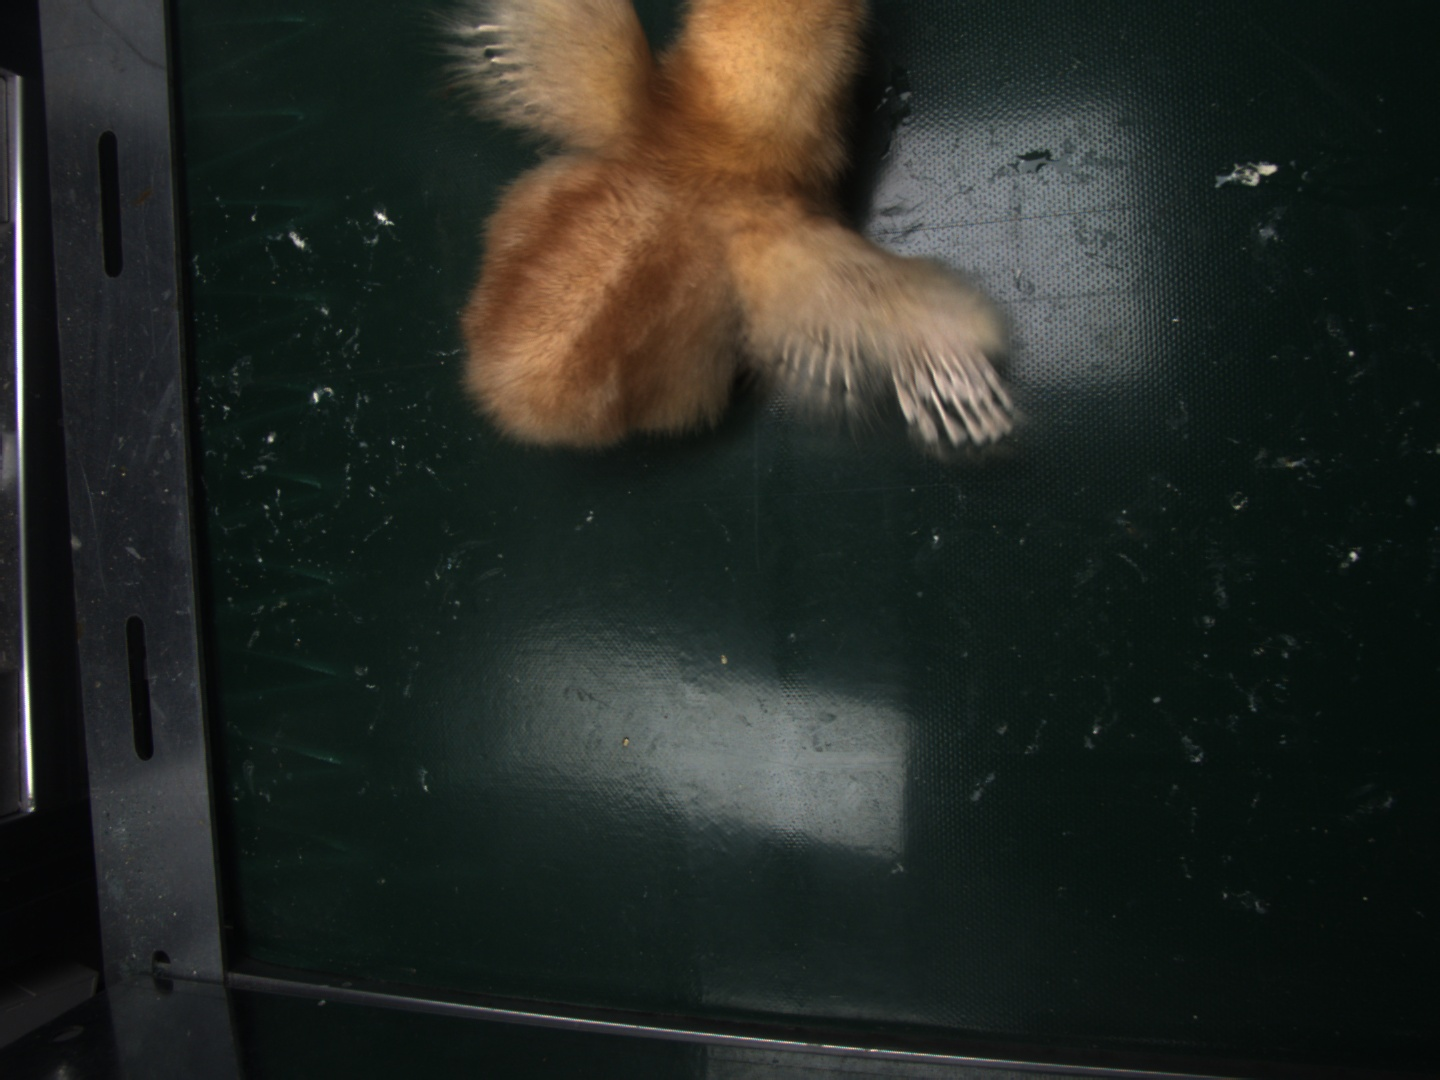female: (890, 344, 1020, 452)
